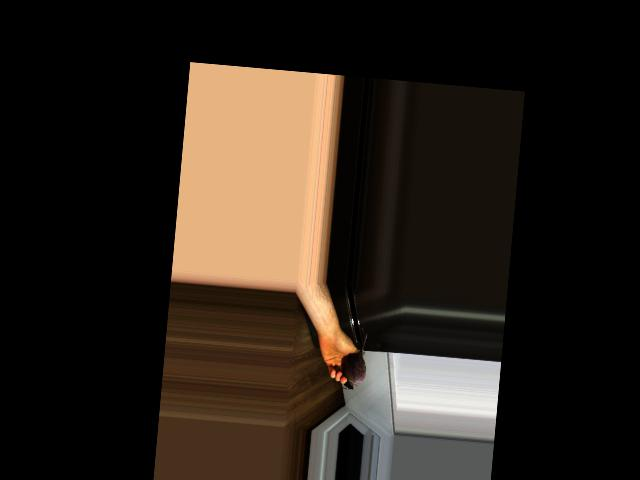beet: (341, 332, 369, 391)
